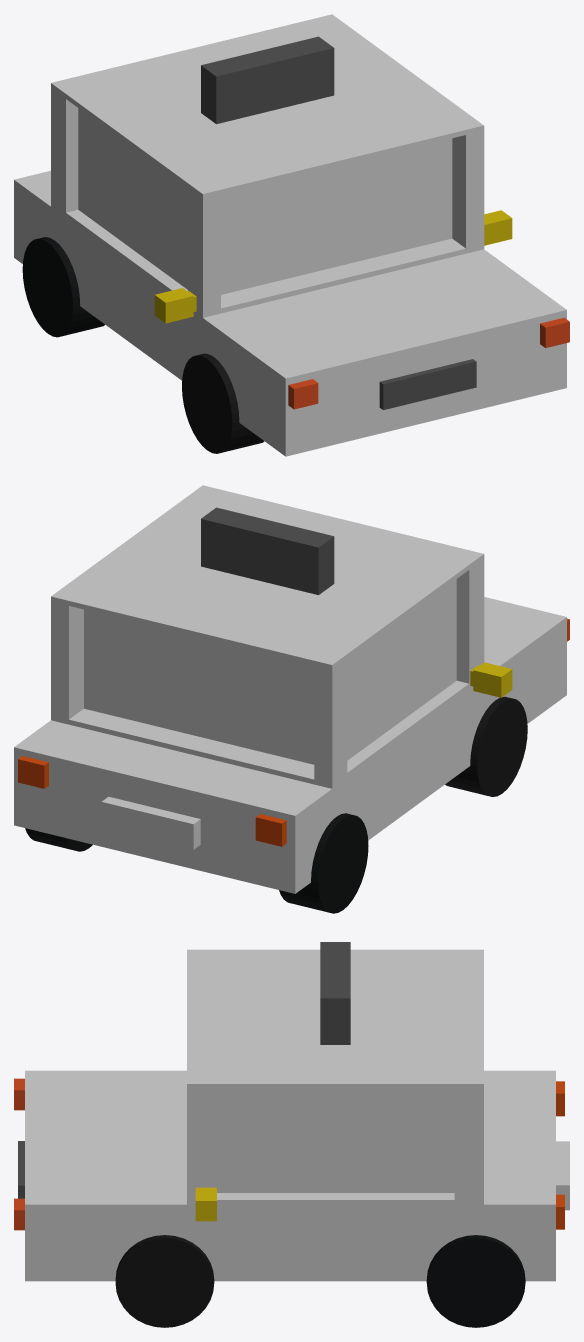
Rendered from taxi.obj.
The picture shows the model from 3 angles, top to bottom: view 1: azimuth 30°, elevation 25°; view 2: azimuth 150°, elevation 25°; view 3: azimuth 270°, elevation 25°; orthographic projection. The views are drawn at different scales.
Parts seen in each view (by area): view 1: Cube.001, Cube.002, Cube.009, Cube.008, Cube.004, Cube, Cube.010; view 2: Cube.001, Cube.002, Cube.009, Cube.008, Cube.003, Cube; view 3: Cube.001, Cube.009, Cube.008, Cube.002, Cube, Cube.010, Cube.003.
Boxes of the visible parts, x1=… form: Cube.001: x1=14, y1=14, x2=566, y2=456; Cube.002: x1=201, y1=36, x2=334, y2=124; Cube.009: x1=22, y1=237, x2=104, y2=337; Cube.008: x1=182, y1=353, x2=264, y2=453; Cube.004: x1=379, y1=359, x2=476, y2=409; Cube: x1=154, y1=210, x2=512, y2=323; Cube.010: x1=288, y1=317, x2=569, y2=409; Cube.001: x1=14, y1=485, x2=566, y2=893; Cube.002: x1=201, y1=507, x2=334, y2=594; Cube.009: x1=25, y1=813, x2=368, y2=913; Cube.008: x1=445, y1=696, x2=527, y2=796; Cube.003: x1=18, y1=756, x2=286, y2=846; Cube: x1=470, y1=662, x2=512, y2=697; Cube.001: x1=25, y1=949, x2=569, y2=1281; Cube.009: x1=426, y1=1235, x2=525, y2=1327; Cube.008: x1=115, y1=1235, x2=214, y2=1327; Cube.002: x1=320, y1=942, x2=350, y2=1044; Cube: x1=195, y1=1187, x2=216, y2=1221; Cube.010: x1=14, y1=1078, x2=24, y2=1230; Cube.003: x1=556, y1=1081, x2=564, y2=1229.
Bounding box in the file's own units: 3.8 × 3.08 × 5.4.
